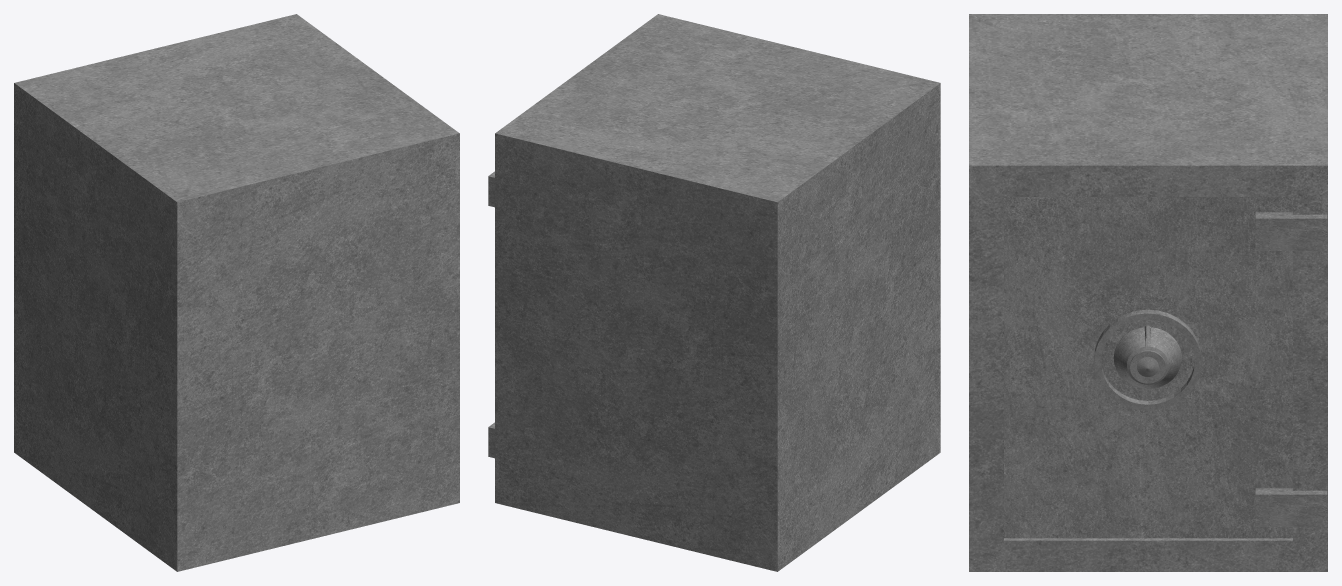
The model's file is Coffre.fbx.
The picture shows the model from 3 angles, left to right: view 1: azimuth 30°, elevation 25°; view 2: azimuth 150°, elevation 25°; view 3: azimuth 270°, elevation 25°; orthographic projection. The views are drawn at different scales.
Visible parts, largest first — view 1: Cube; view 2: Cube; view 3: Cube, Cylindre, Sphère, Cube.001, Cube.002, Cylindre.001.
Boxes of the visible parts, x1=… form: Cube: x1=14, y1=14, x2=459, y2=571; Cube: x1=495, y1=14, x2=940, y2=571; Cube: x1=969, y1=14, x2=1327, y2=571; Cylindre: x1=1094, y1=309, x2=1201, y2=410; Sphère: x1=1113, y1=325, x2=1181, y2=388; Cube.001: x1=1255, y1=488, x2=1327, y2=526; Cube.002: x1=1255, y1=212, x2=1327, y2=250; Cylindre.001: x1=1130, y1=350, x2=1165, y2=383.
Size of the model in its own units: 211 by 250 by 200.
1 material, 1 textured.
